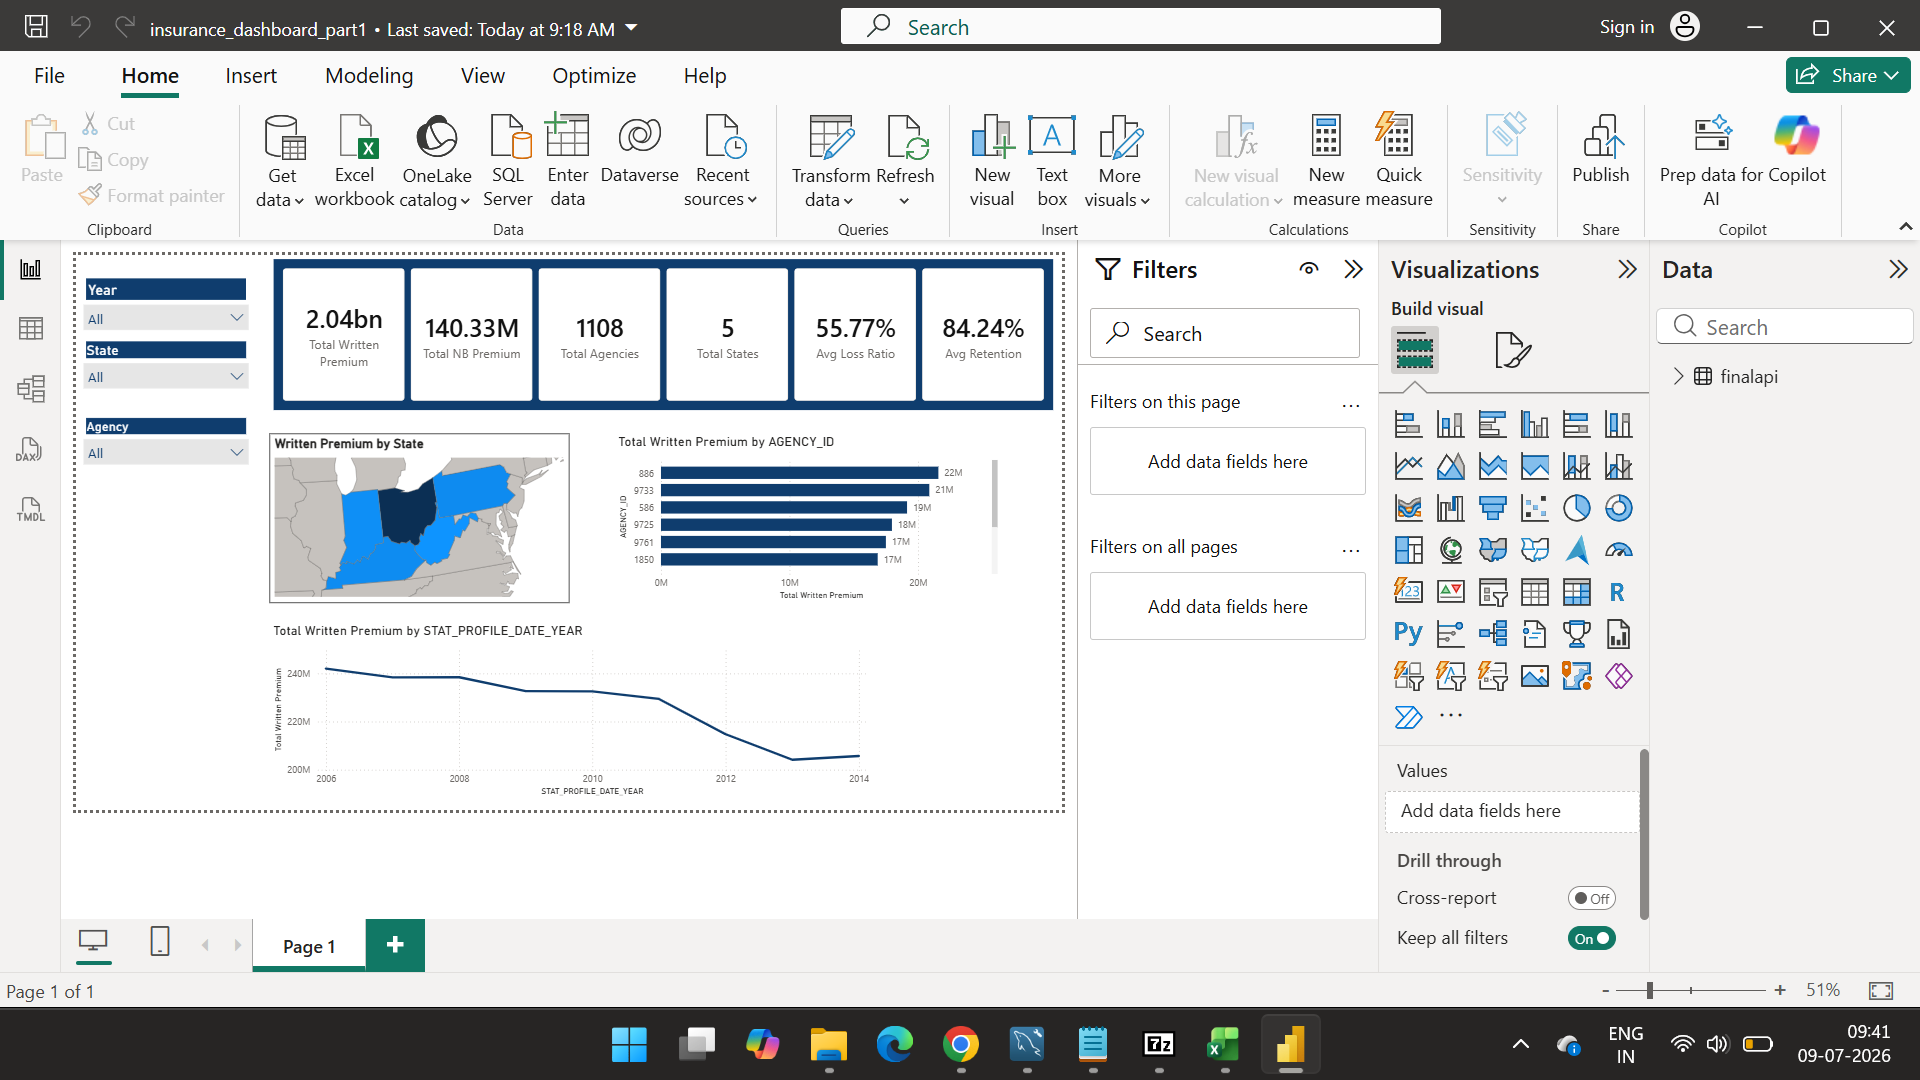

The page's visual inventory and layout, read from the dashboard file:
{"tool":"powerbi","page":{"name":"Page 1","canvas":[1280,720],"ordinal":0},"visuals":[{"type":"cardVisual","fields":{"Data":["finalapi.Total Written Premium","finalapi.Total NB Premium","finalapi.Total Agencies","finalapi.Total States","finalapi.Avg Loss Ratio","finalapi.Avg Retention"]},"box":[251.2,0,1026.2,206.4],"z":0},{"type":"slicer","fields":{"Values":["finalapi.STAT_PROFILE_DATE_YEAR"]},"box":[0,25.3,233.7,81.8],"z":1000},{"type":"slicer","fields":{"Values":["finalapi.STATE_ABBR"]},"box":[0,107.1,233.7,149.9],"z":2000},{"type":"slicer","fields":{"Values":["finalapi.AGENCY_ID"]},"box":[0,206.4,233.7,149.9],"z":3000},{"type":"shapeMap","title":" Written Premium by State","fields":{"Category":["finalapi.STATE_ABBR"],"Value":["finalapi.Total Written Premium"]},"box":[251.2,231.7,389.5,220],"z":4000},{"type":"barChart","fields":{"Category":["finalapi.AGENCY_ID"],"Y":["finalapi.Total Written Premium"]},"box":[699.1,231.7,502.4,220],"z":5000},{"type":"lineChart","fields":{"Category":["finalapi.STAT_PROFILE_DATE_YEAR"],"Y":["finalapi.Total Written Premium"]},"box":[251.2,477.1,782.8,229.8],"z":6000}]}

Visuals, with their boxes on the page's 1280x720 design canvas (x1, y1, x2, y2). These are canvas units, not pixel positions in the 1920x1080 screenshot, which may show the page scaled, cropped or inside an application window:
cardVisual - finalapi.Total Written Premium x finalapi.Total NB Premium: 251,0,1277,206
slicer - finalapi.STAT_PROFILE_DATE_YEAR: 0,25,234,107
slicer - finalapi.STATE_ABBR: 0,107,234,257
slicer - finalapi.AGENCY_ID: 0,206,234,356
" Written Premium by State" shapeMap: 251,232,641,452
barChart - finalapi.AGENCY_ID x finalapi.Total Written Premium: 699,232,1202,452
lineChart - finalapi.STAT_PROFILE_DATE_YEAR x finalapi.Total Written Premium: 251,477,1034,707
